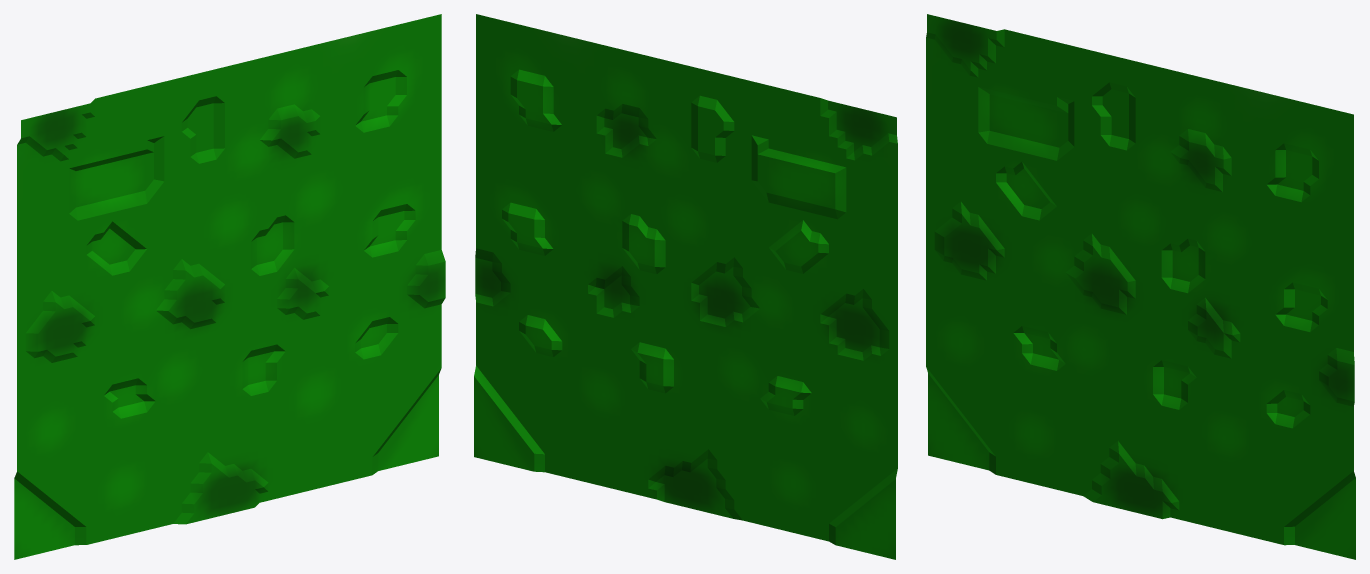
File: ground.dae
3 renders of one model, left to right at view 1: azimuth 30°, elevation 25°; view 2: azimuth 150°, elevation 25°; view 3: azimuth 330°, elevation 25°, orthographic.
Visible parts, largest first — view 1: Grid; view 2: Grid; view 3: Grid.
Boxes of the visible parts, x1,y1,x2,y2 form: Grid: [14, 14, 445, 559]; Grid: [474, 14, 897, 559]; Grid: [926, 14, 1355, 559].
Bounding box in the file's own units: 40.26 × 0.6489 × 40.19.
